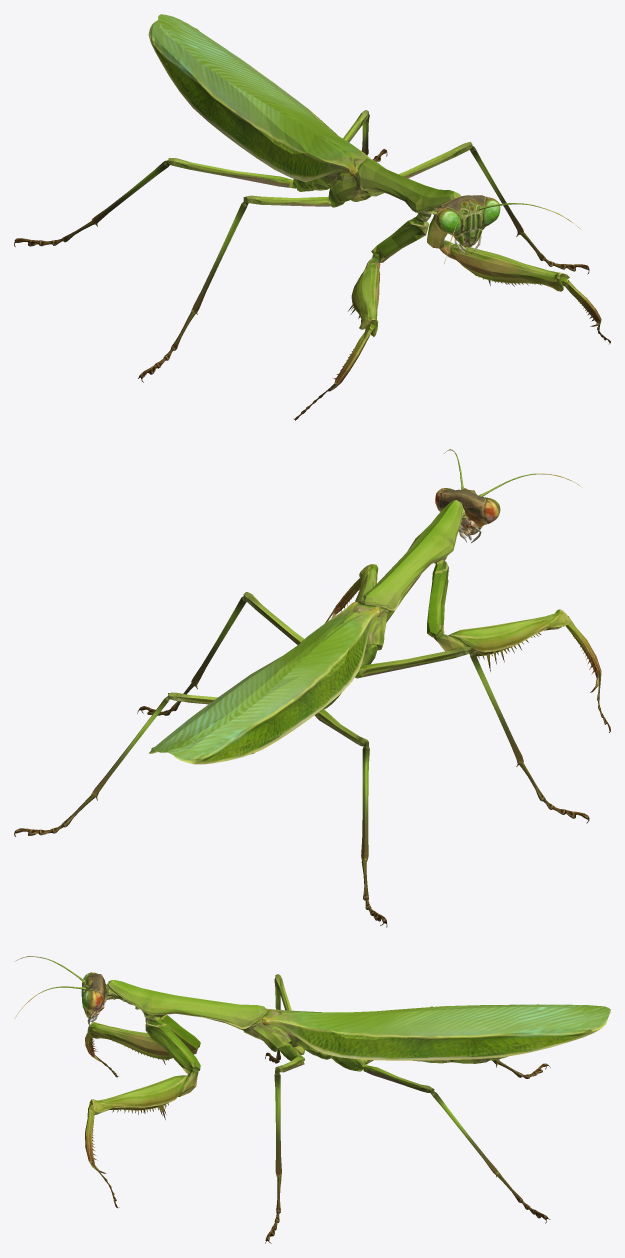
The picture shows the model from 3 angles, top to bottom: view 1: azimuth 30°, elevation 25°; view 2: azimuth 150°, elevation 25°; view 3: azimuth 270°, elevation 25°; orthographic projection. The views are drawn at different scales.
Visible parts, largest first — view 1: 8e2e384b_2ad2_4df5_8290_4c1875df2cd6; view 2: 8e2e384b_2ad2_4df5_8290_4c1875df2cd6; view 3: 8e2e384b_2ad2_4df5_8290_4c1875df2cd6.
Part boxes in pixels (x1,y1,x2,y2): 8e2e384b_2ad2_4df5_8290_4c1875df2cd6: (14, 14, 610, 420); 8e2e384b_2ad2_4df5_8290_4c1875df2cd6: (14, 449, 610, 927); 8e2e384b_2ad2_4df5_8290_4c1875df2cd6: (14, 956, 610, 1243).
Size of the model in its own units: 148 by 65.44 by 199.
Materials: 1 (1 with a texture image).
